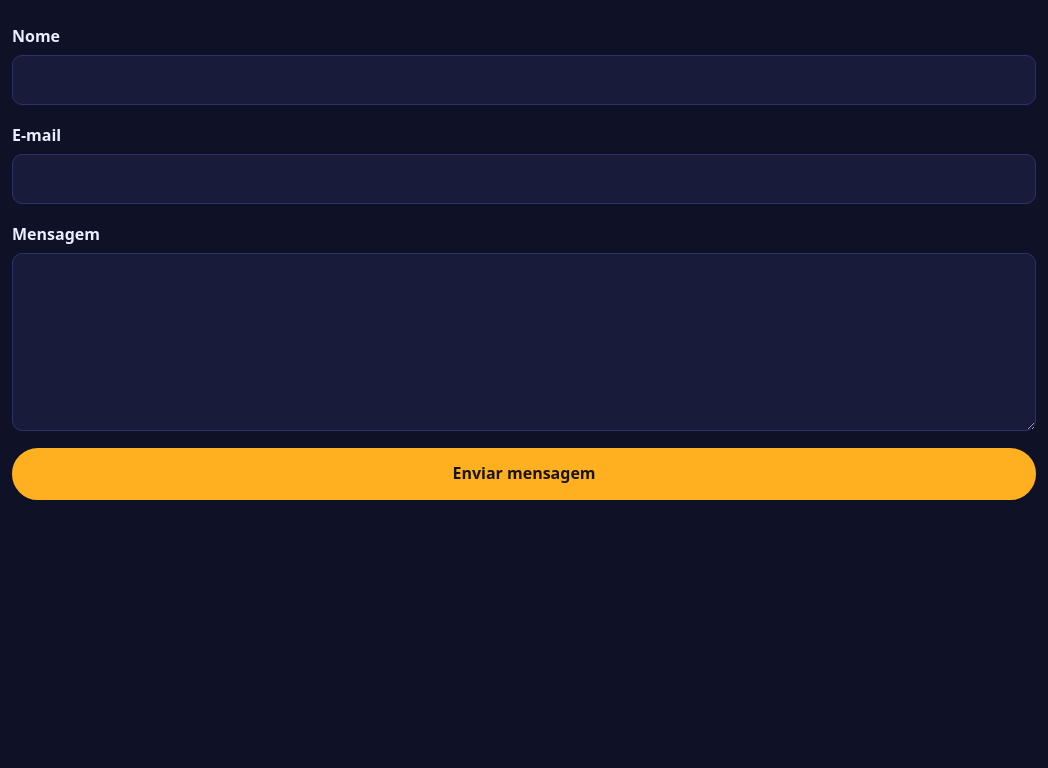
Test: ContactForm › mostra erro quando o envio falha
The image size is (1048, 768).
In the field labelled "Nome": (524, 80) [12, 55, 1036, 105], type "Ana Souza"
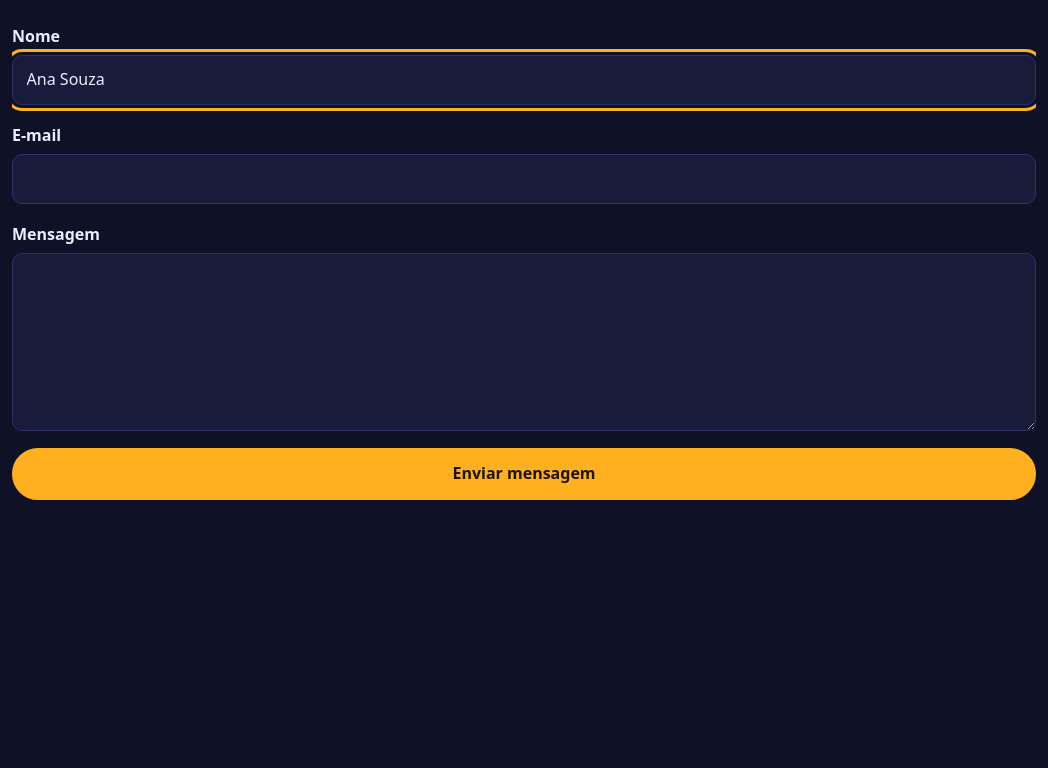
In the field labelled "E-mail": (524, 179) [12, 154, 1036, 204], type "ana@exemplo.com"
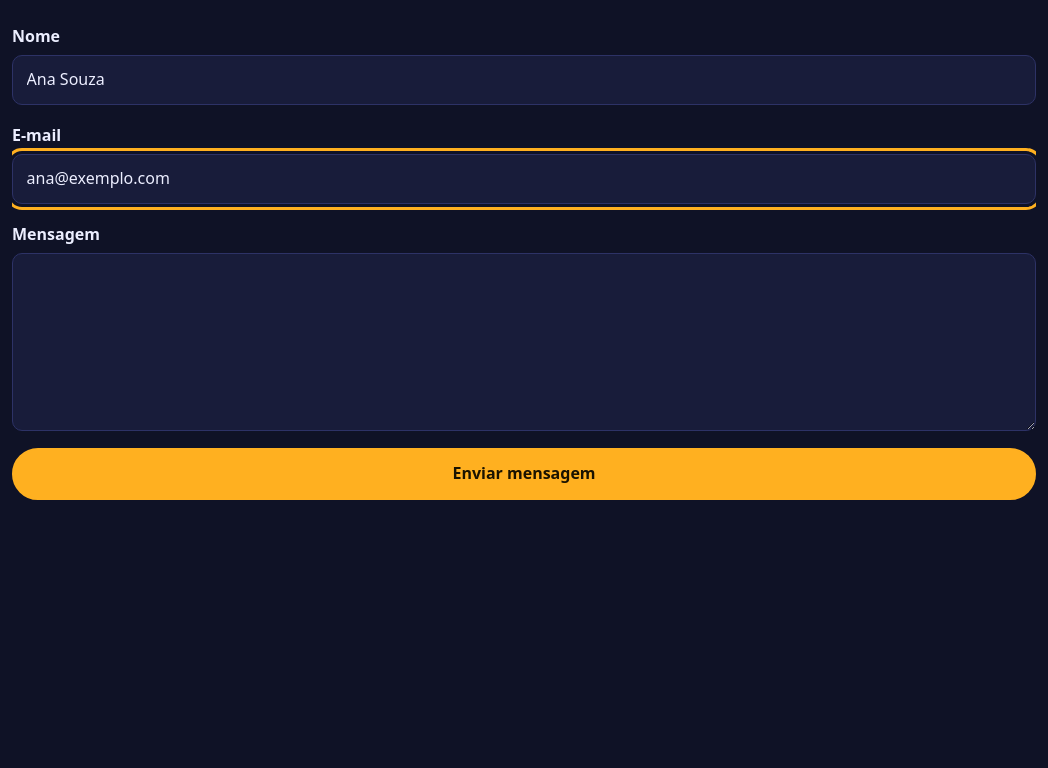
In the text box labelled "Mensagem": (524, 342) [12, 253, 1036, 431], type "Olá! Gostei muito do seu portfólio."
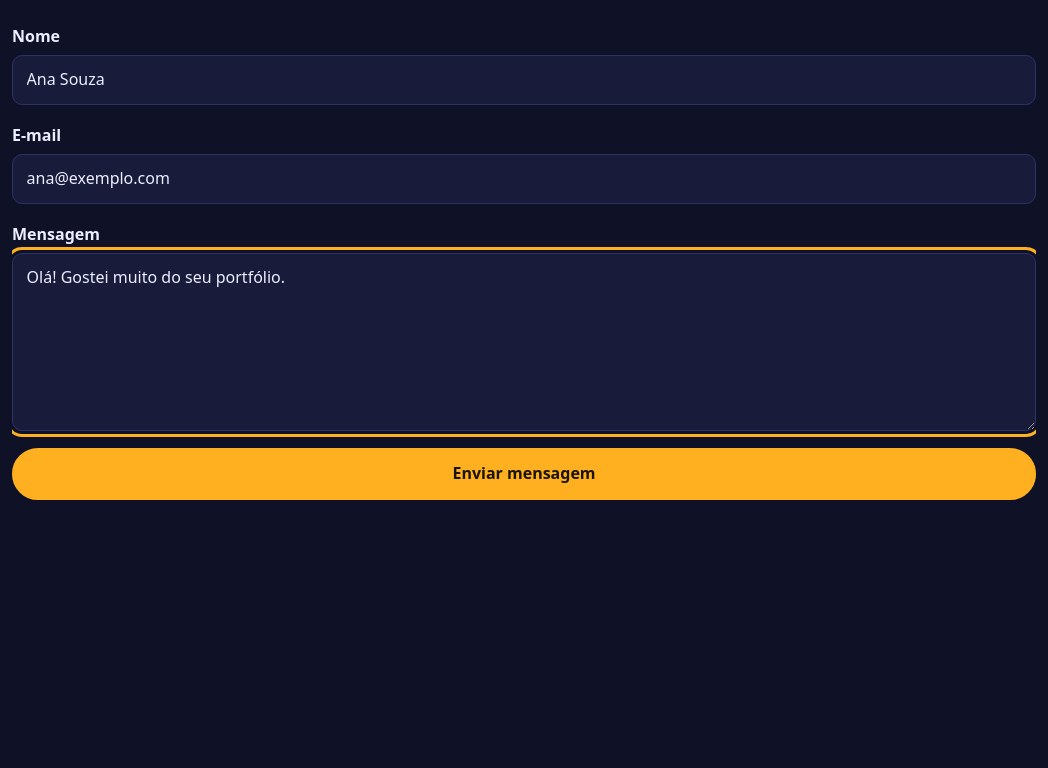
Click the button "Enviar mensagem": (524, 474) [12, 448, 1036, 500]
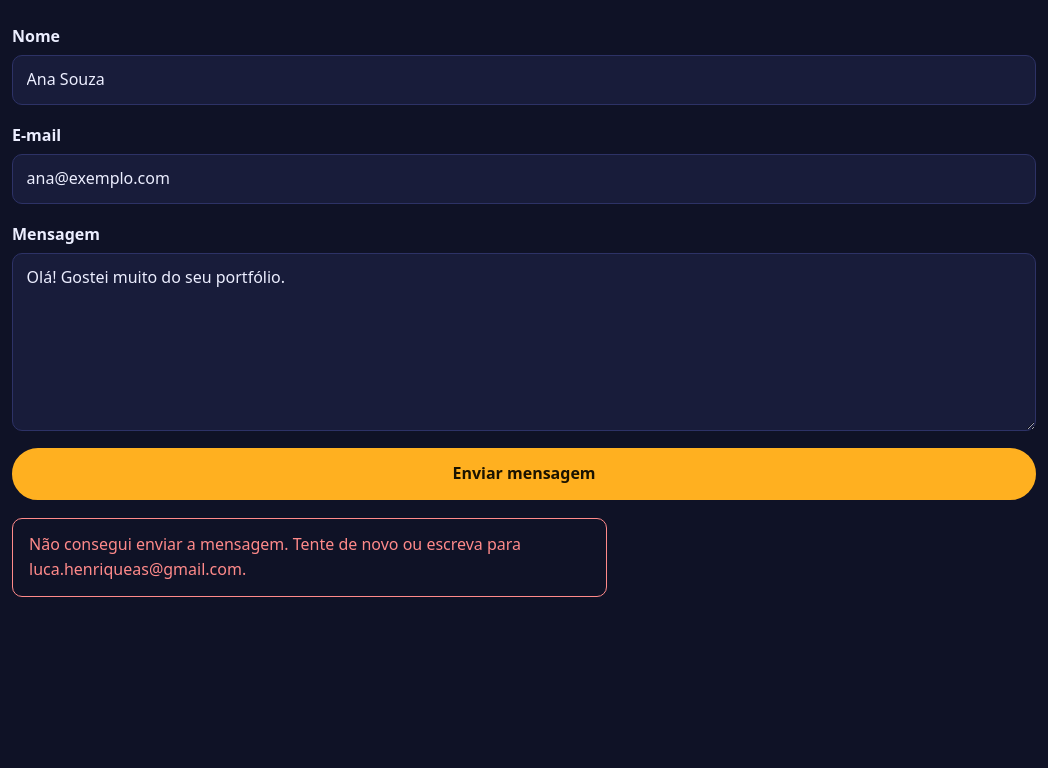
Result: the text "Não consegui enviar" is shown at [29, 533, 521, 555]
